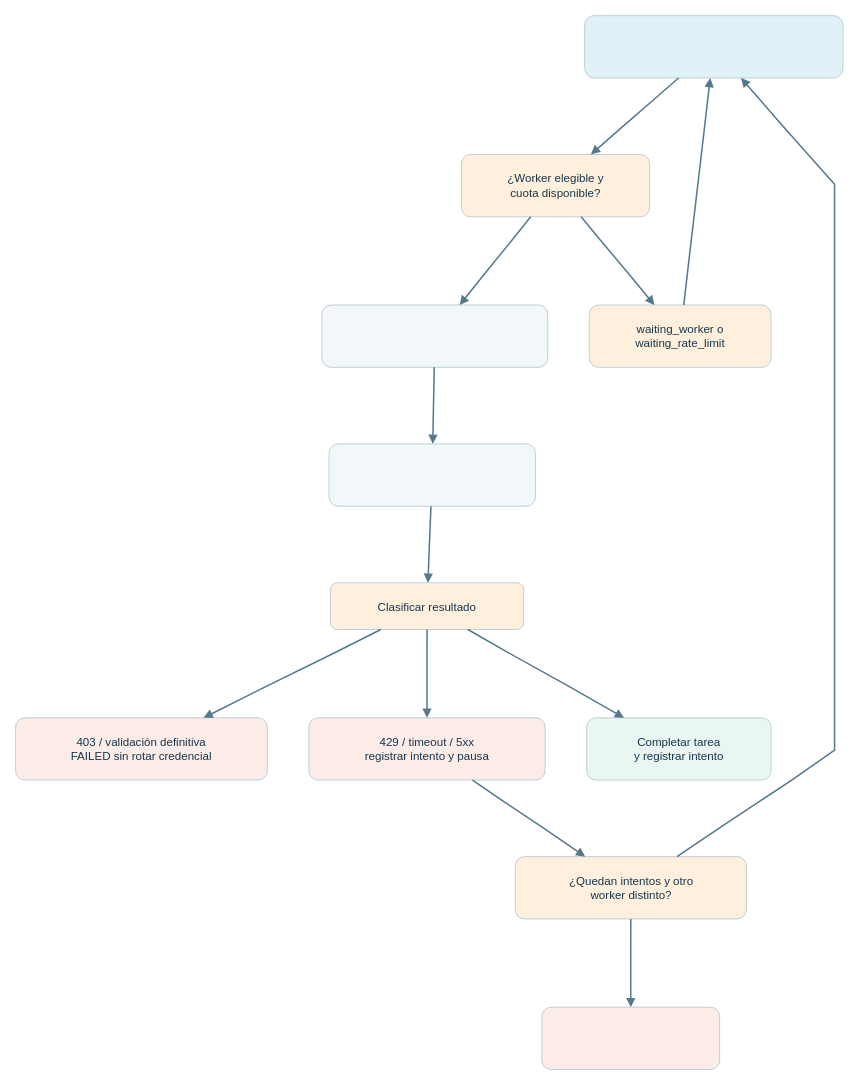
This 859x1086 diagram has some shape labels left out. The centre of each missing label's shape, as x and y in pixels:
"Enviar HTTP fuera de transacción" goes at (431,474).
"FAILED o waiting_worker" goes at (630,1038).
"Reservar cuota + lease transacción corta" goes at (434,335).
"Seleccionar tarea + worker no utilizado en esa tarea" goes at (713,46).
